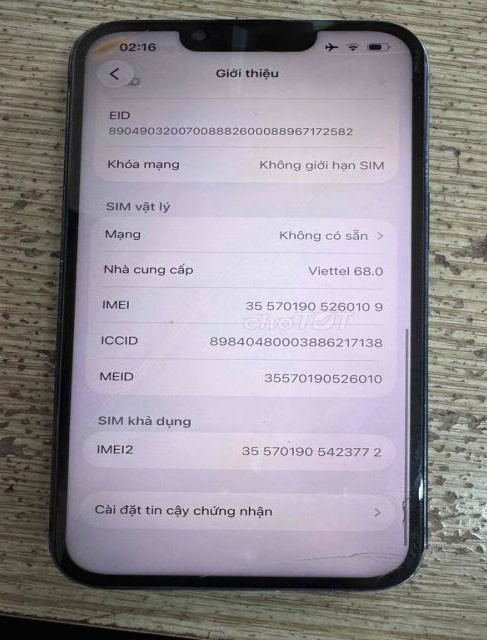physical_damage: (64, 110, 402, 449), (191, 549, 424, 596), (241, 29, 424, 68), (82, 17, 176, 67), (391, 483, 420, 537)
screen_defect: (82, 20, 154, 64)
